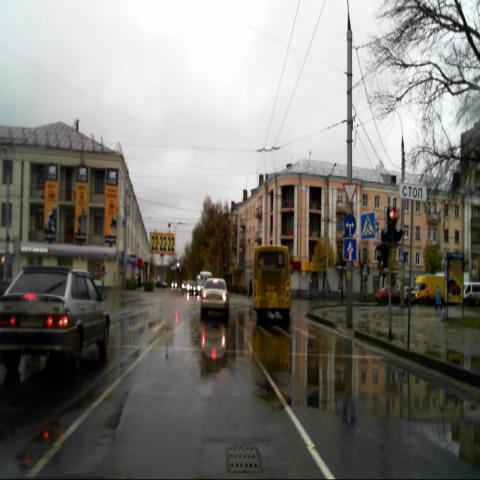4_1_6: (343, 214, 357, 236)
